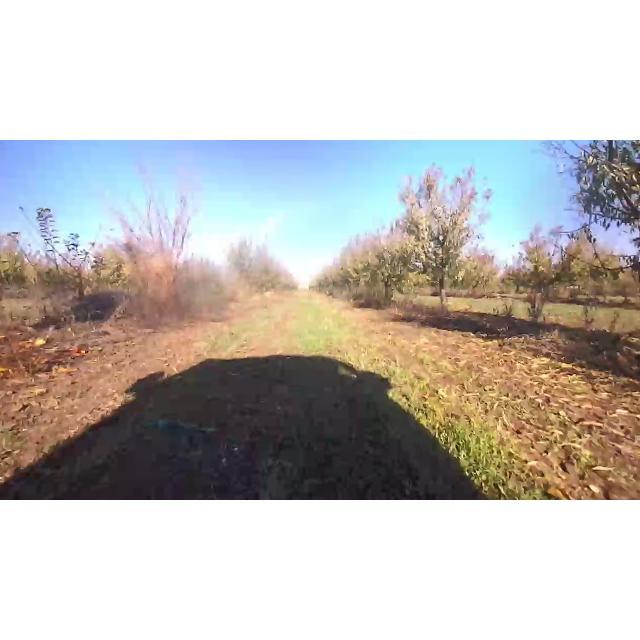direk: (394, 158, 504, 318), (105, 154, 205, 312), (496, 212, 592, 328), (16, 194, 112, 302), (363, 222, 419, 308)
